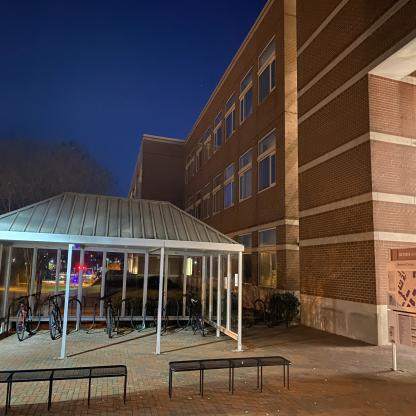eb2: (129, 3, 416, 348)
